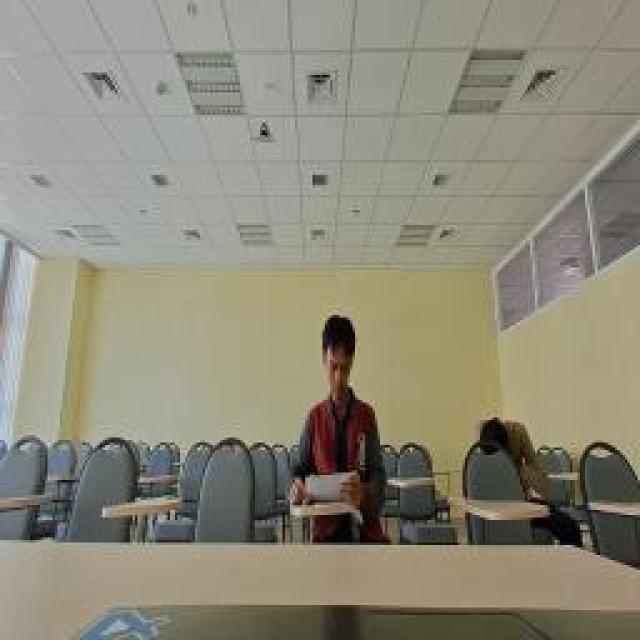sleep: (478, 420, 550, 502)
study: (285, 310, 385, 548)
